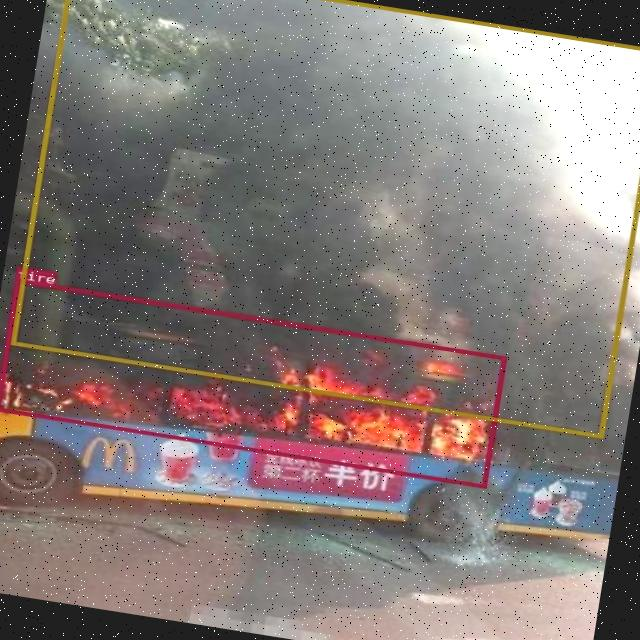fire: (0, 278, 506, 487)
smoke: (10, 0, 640, 437)
